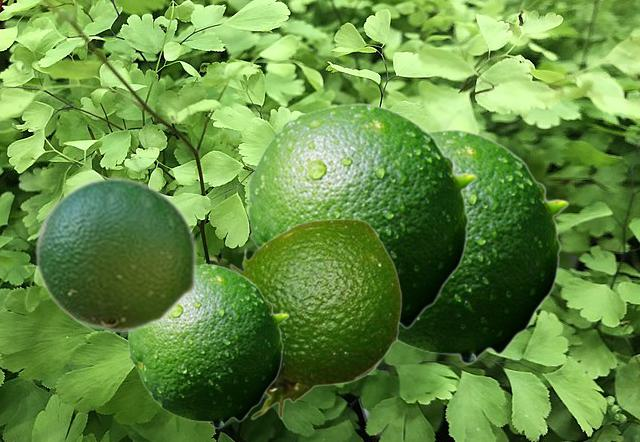dalandan: (247, 102, 476, 331), (398, 128, 568, 364), (229, 218, 401, 419), (127, 263, 288, 428), (34, 176, 197, 333)
